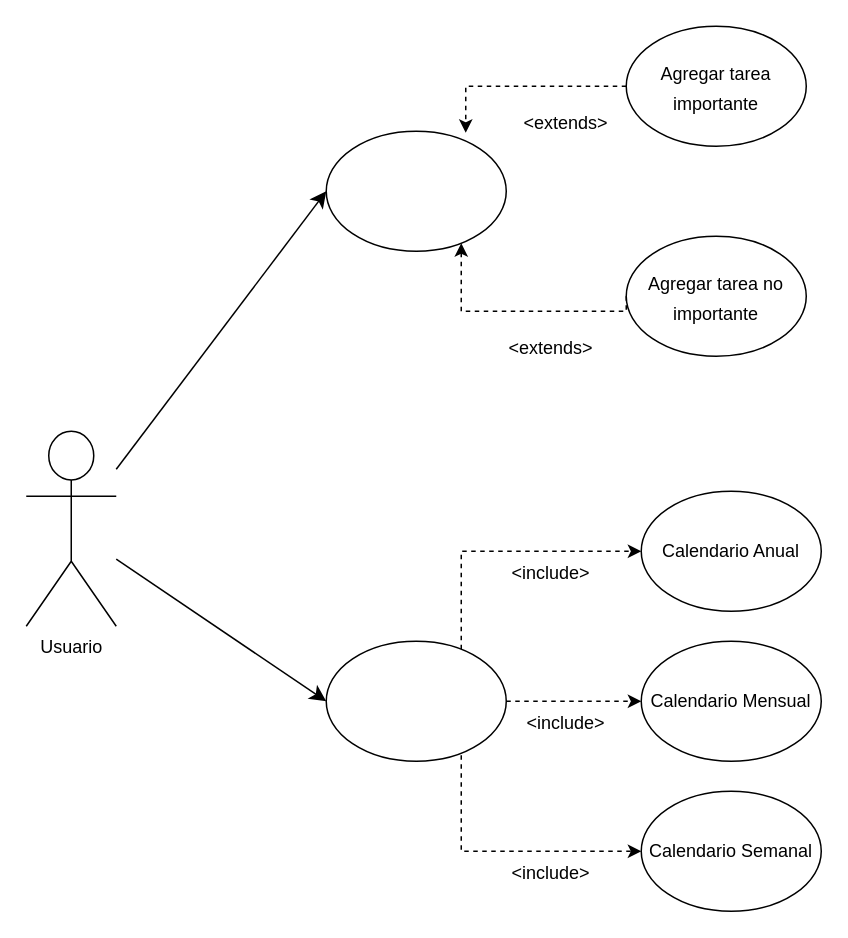
Some shapes in this 848 by 938 pixel diagram are drawn without their labels. The centre of each missing label's shape, as x and y in pixels:
"Gestionar Actividades" belongs at point 415,190.
"Visualizar" belongs at point 415,700.
